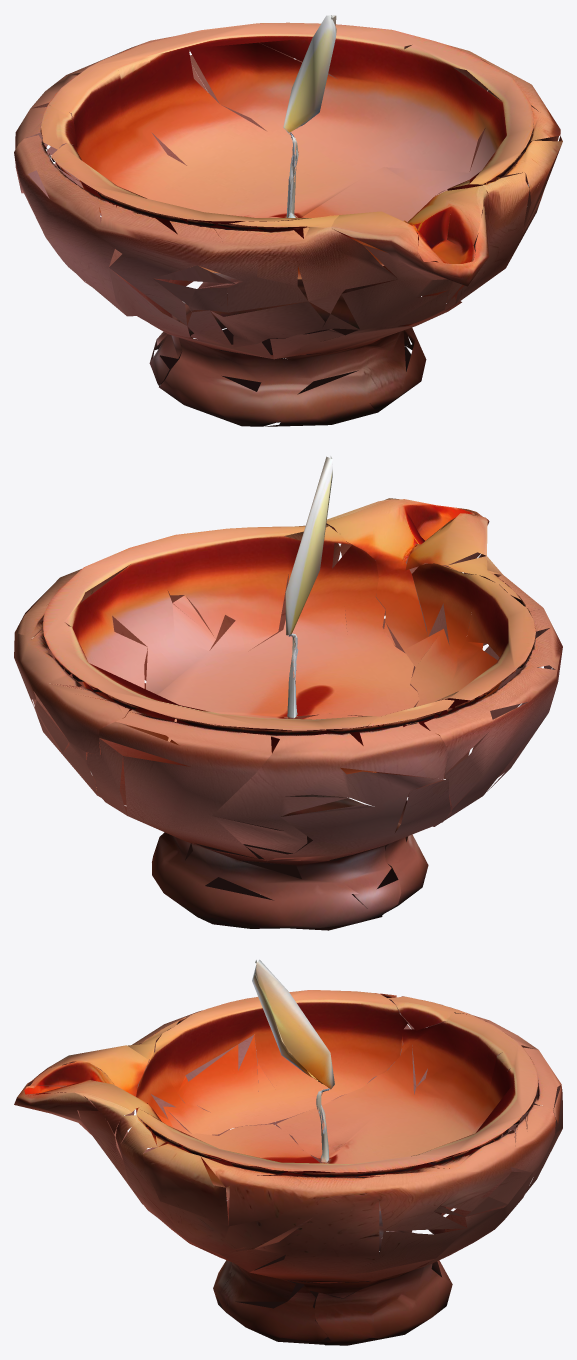
File: diya.glb
3 renders of one model, top to bottom at view 1: azimuth 30°, elevation 25°; view 2: azimuth 150°, elevation 25°; view 3: azimuth 270°, elevation 25°, orthographic. The views are drawn at different scales.
Parts seen in each view (by area): view 1: model; view 2: model; view 3: model.
Part boxes in pixels (left/top/right/bottom): model: left=14, top=15, right=562, bottom=426; model: left=14, top=456, right=562, bottom=930; model: left=14, top=959, right=562, bottom=1345.
Size of the model in its own units: 0.0757 by 0.06 by 0.087.
Materials: 1 (1 with a texture image).
